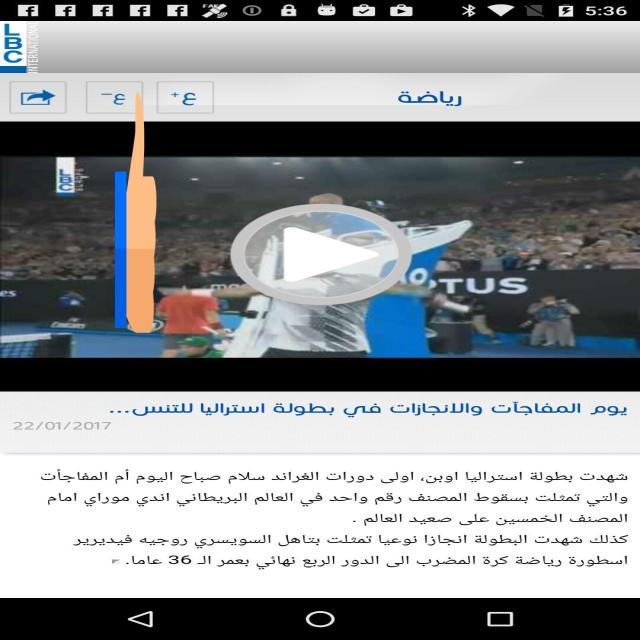privacy zuckering: (115, 86, 156, 339)
